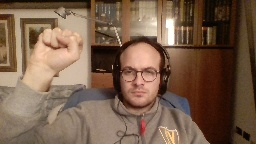Pugno: (24, 26, 86, 76)
